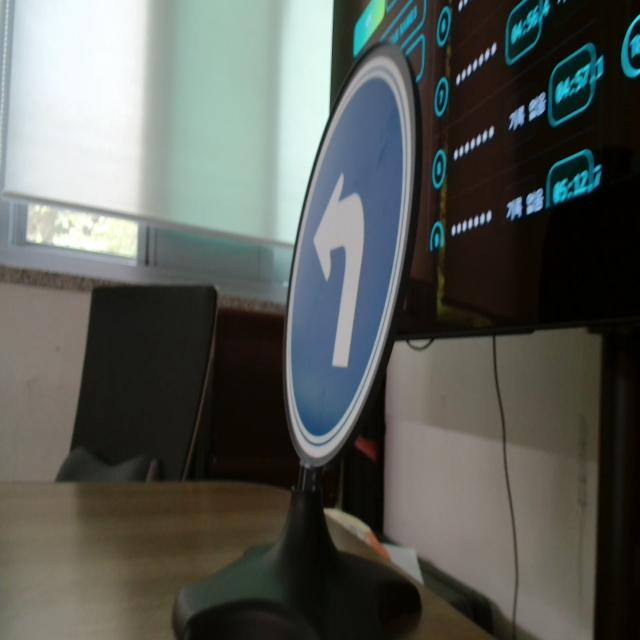left_direction: (272, 73, 421, 452)
